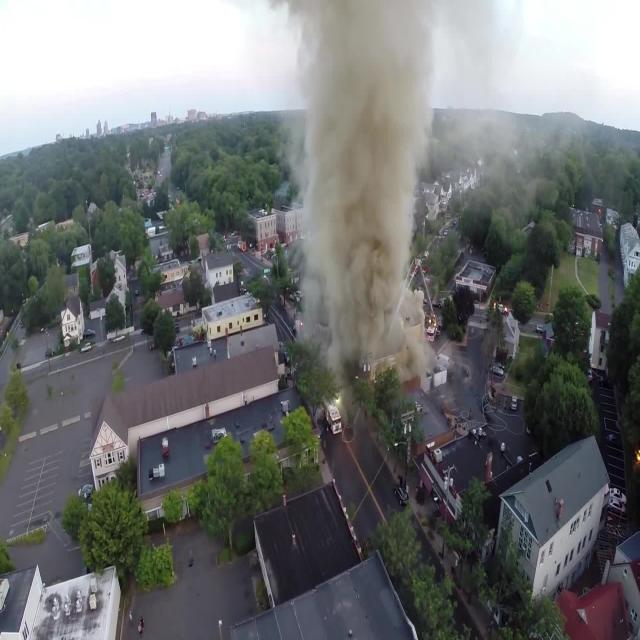Smoke: (302, 2, 418, 363)
